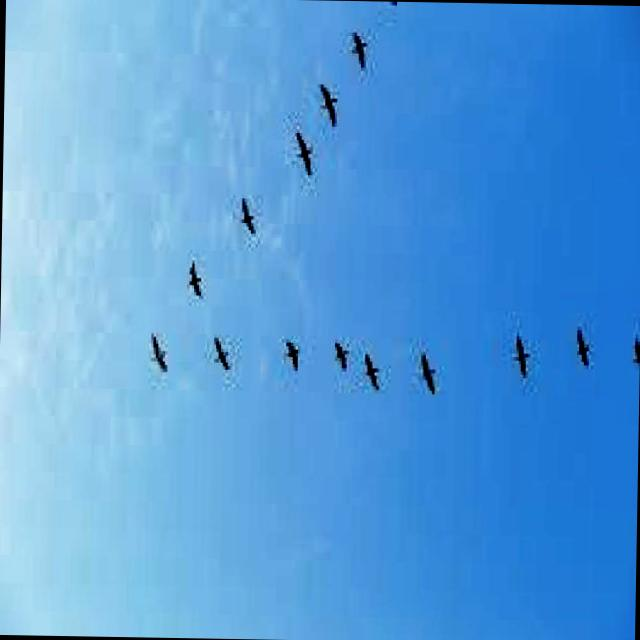bird: (289, 123, 317, 182), (315, 77, 343, 132), (144, 326, 172, 378), (570, 322, 592, 376), (235, 191, 259, 240), (416, 348, 439, 399), (511, 329, 532, 384), (348, 26, 369, 76), (184, 258, 206, 304), (209, 332, 235, 370), (282, 332, 302, 374), (363, 351, 382, 394), (330, 338, 351, 373)
